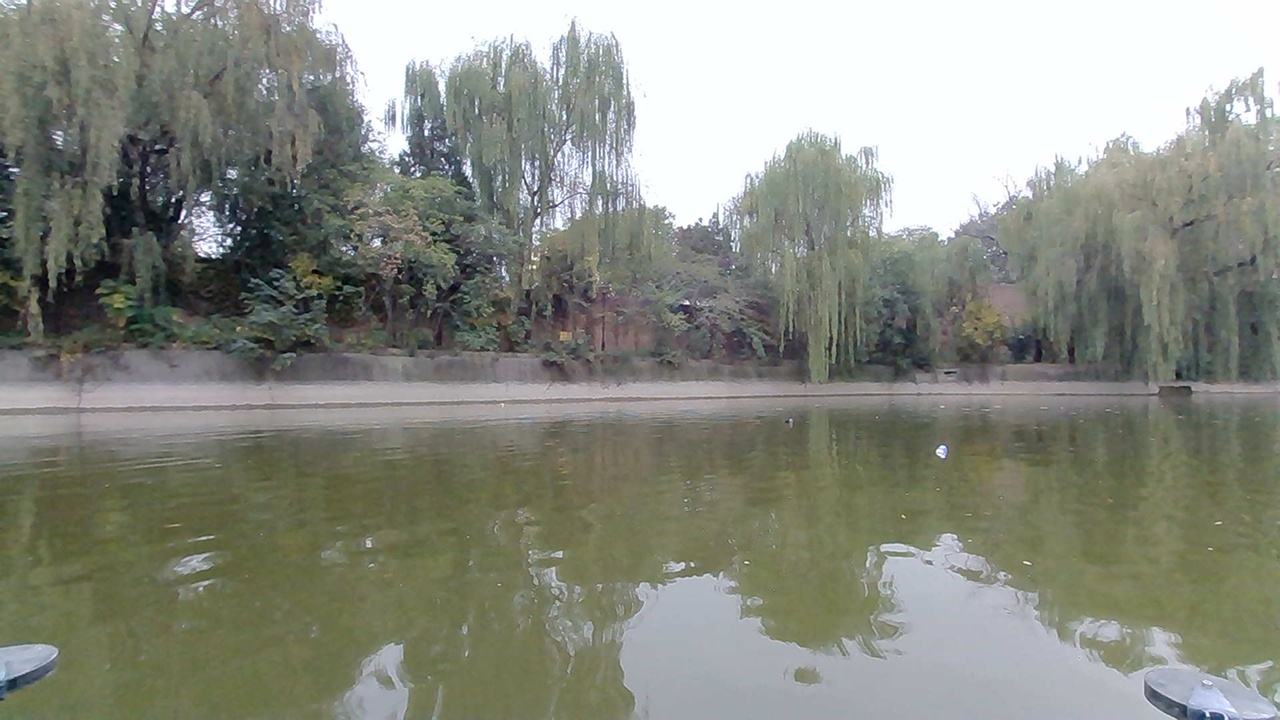bottle: (918, 429, 957, 458), (784, 404, 812, 430)
